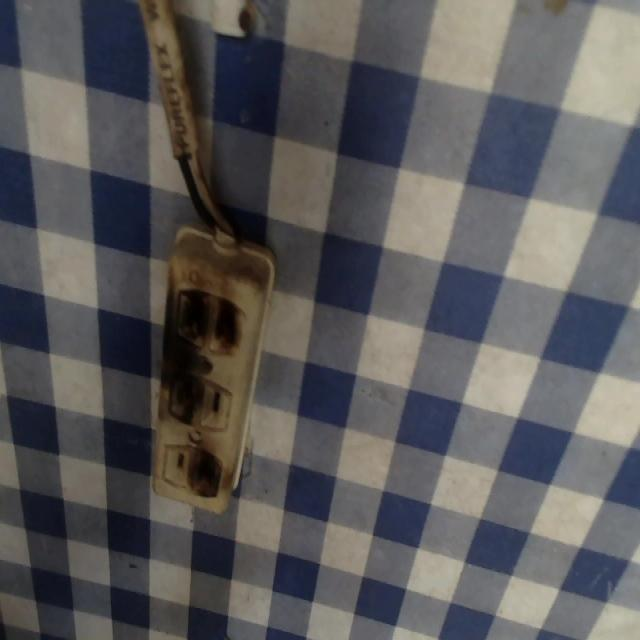-: (173, 284, 246, 360), (161, 367, 200, 429), (187, 441, 220, 500)
